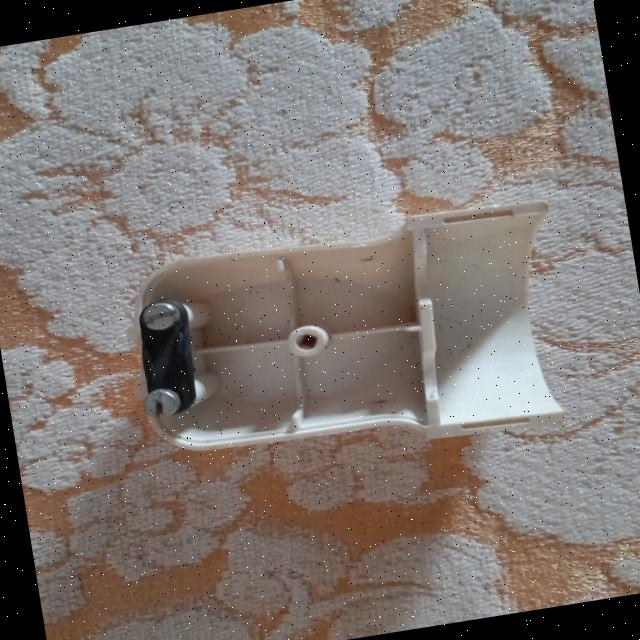Slotted: (139, 386, 182, 422), (140, 299, 182, 333)
